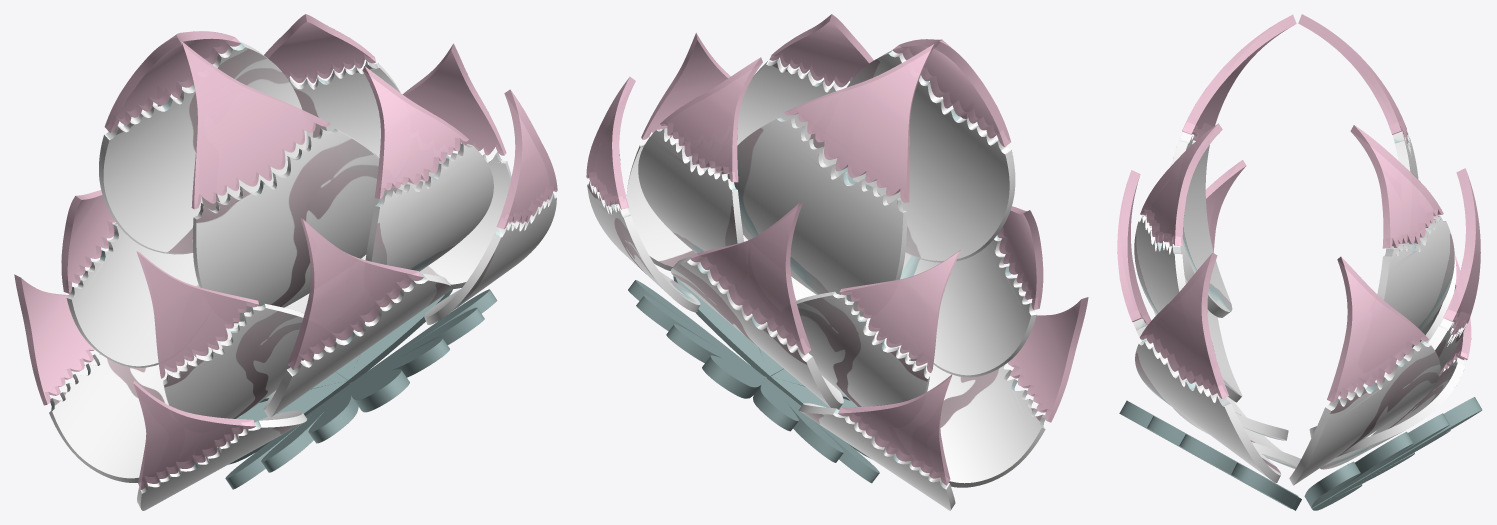
File: add-visual-flower-2.glb
3 renders of one model, left to right at view 1: azimuth 30°, elevation 25°; view 2: azimuth 150°, elevation 25°; view 3: azimuth 270°, elevation 25°, orthographic. The views are drawn at different scales.
Parts seen in each view (by area): view 1: 1-红.001; view 2: 1-红.001; view 3: 1-红.001.
Boxes of the visible parts, x1=… form: 1-红.001: x1=14, y1=14, x2=557, y2=510; 1-红.001: x1=586, y1=14, x2=1088, y2=510; 1-红.001: x1=1117, y1=14, x2=1482, y2=510.
Size of the model in its own units: 3.64 by 3.54 by 2.5.
Materials: 3 (1 with a texture image).
